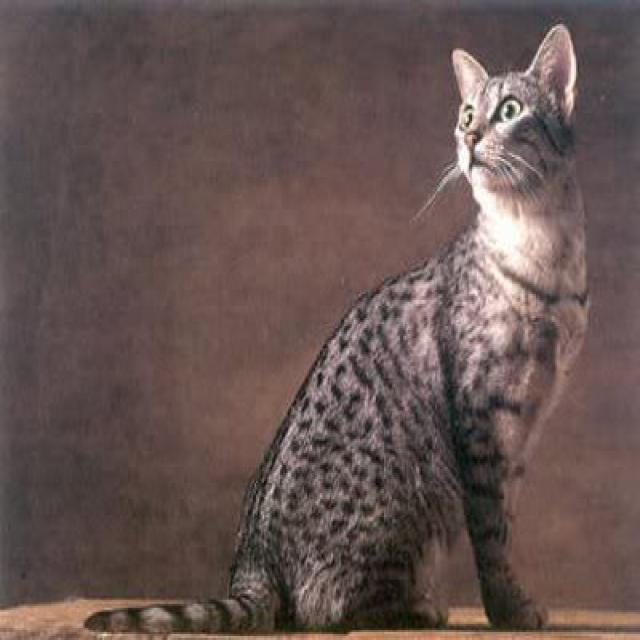Egyptian_Mau: (444, 23, 581, 202)
